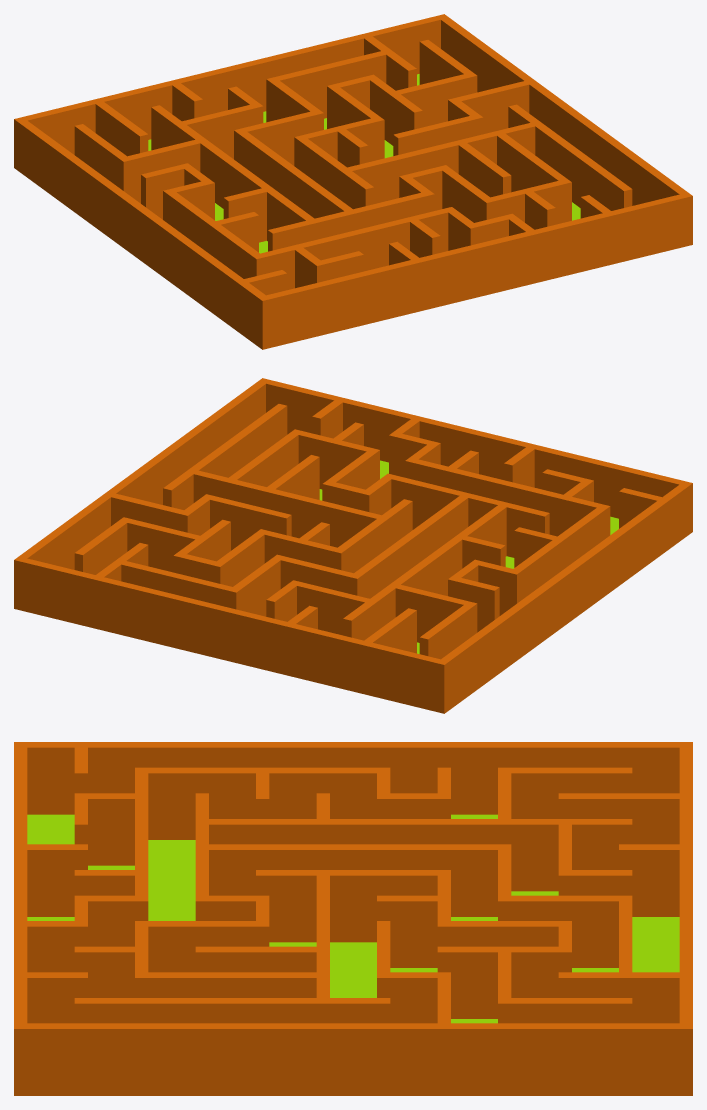
File: Level21Ground.FBX
3 views of the same model, one above another, from view 1: azimuth 30°, elevation 25°; view 2: azimuth 150°, elevation 25°; view 3: azimuth 270°, elevation 25° (orthographic). The views are drawn at different scales.
Visible parts, largest first — view 1: pPlane2; view 2: pPlane2; view 3: pPlane2.
Part boxes in pixels (x1=…): pPlane2: x1=14, y1=14, x2=692, y2=349; pPlane2: x1=14, y1=378, x2=692, y2=713; pPlane2: x1=14, y1=742, x2=692, y2=1095.
Bounding box in the file's own units: 258 × 28 × 258.
